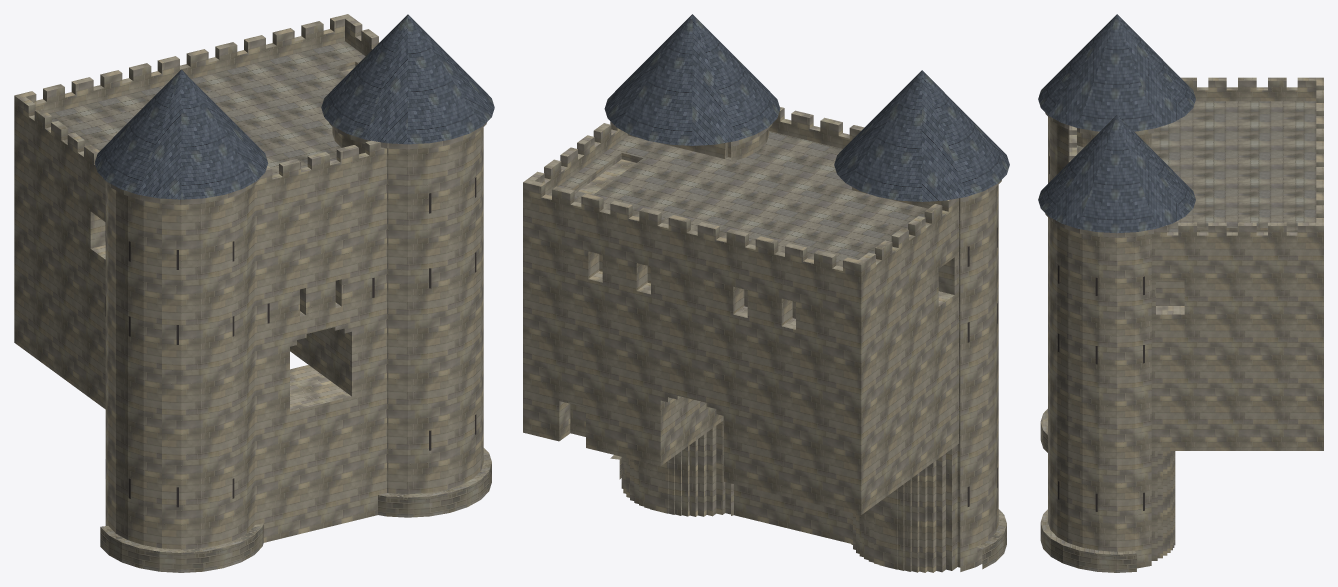
The model's file is fort-gatehouse.zfix-v11b.lod1.glb.
3 renders of one model, left to right at view 1: azimuth 30°, elevation 25°; view 2: azimuth 150°, elevation 25°; view 3: azimuth 270°, elevation 25°, orthographic. The views are drawn at different scales.
Visible parts, largest first — view 1: fort-gatehouse; view 2: fort-gatehouse; view 3: fort-gatehouse.
Part boxes in pixels (bbox=[...]): fort-gatehouse: bbox=[14, 14, 494, 572]; fort-gatehouse: bbox=[523, 14, 1009, 572]; fort-gatehouse: bbox=[1038, 14, 1323, 572].
Size of the model in its own units: 31.6 by 37.5 by 22.8.
5 materials, 4 textured.
